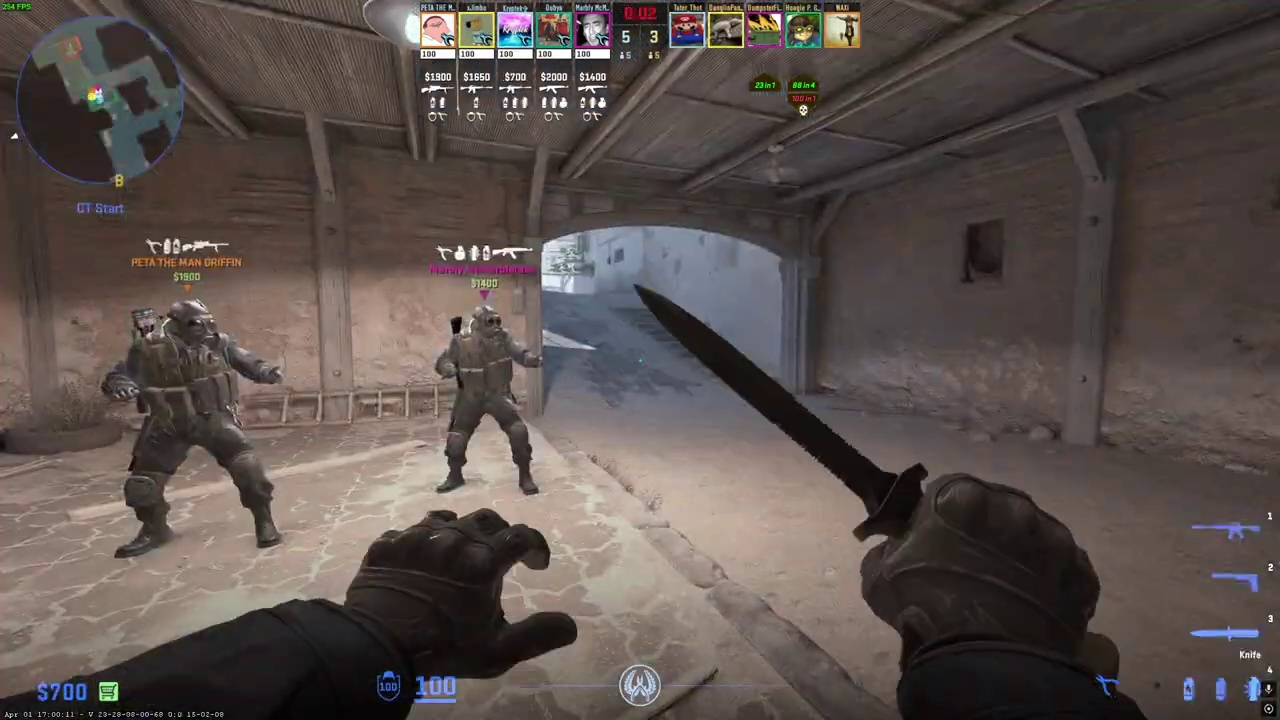CT: (101, 298, 282, 559), (435, 305, 540, 496)
